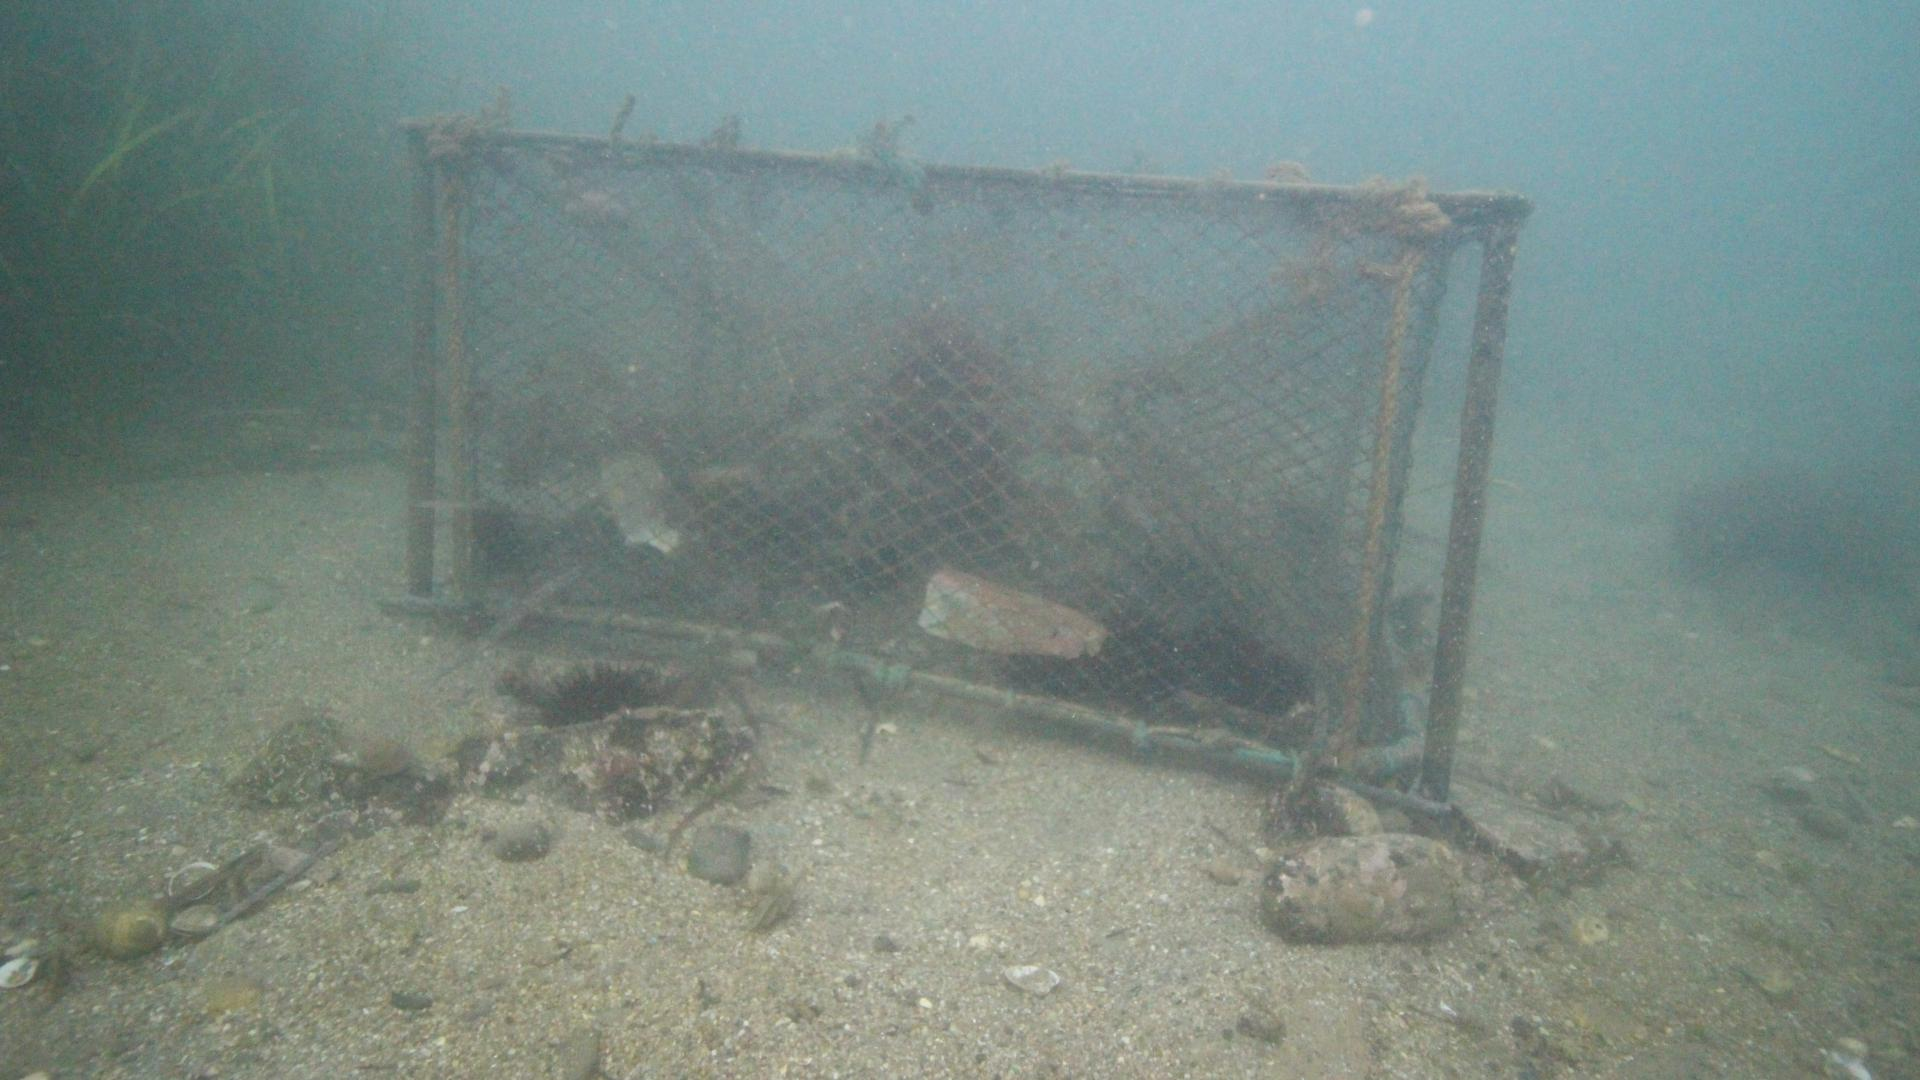rectangular fish trap: (402, 123, 1527, 802)
